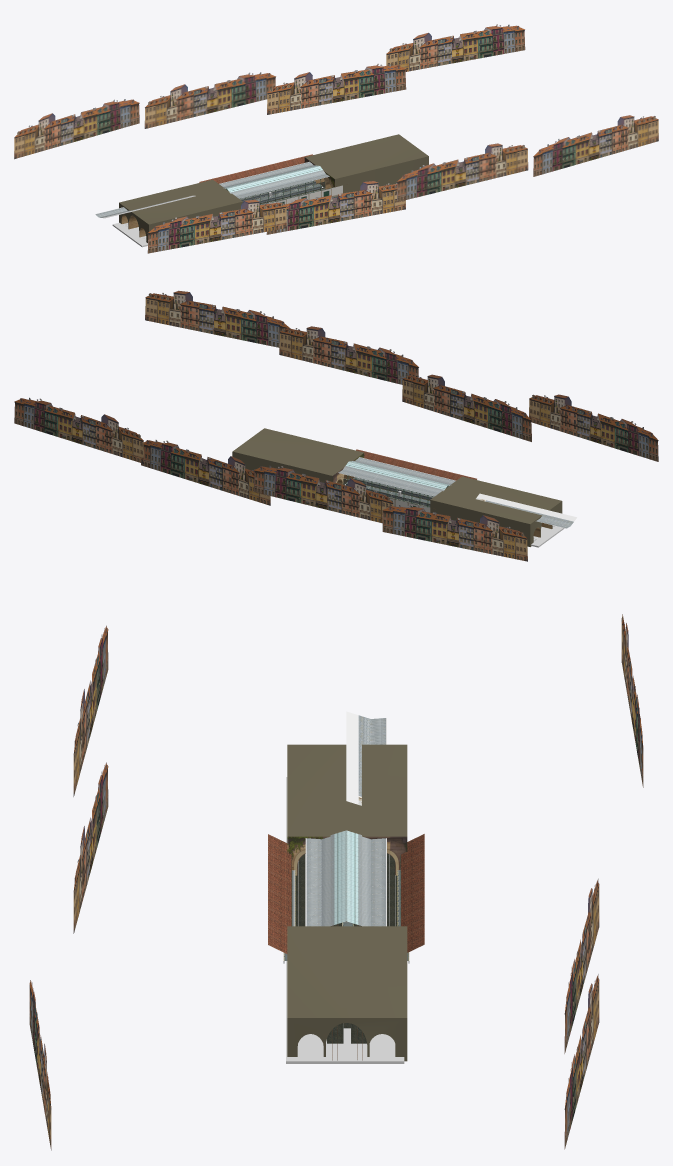
3 renders of one model, top to bottom at view 1: azimuth 30°, elevation 25°; view 2: azimuth 150°, elevation 25°; view 3: azimuth 270°, elevation 25°, orthographic. The views are drawn at different scales.
Visible parts, largest first — view 1: Plane.016, Plane.141, Plane.209, Plane.210, Plane.138, Plane.207, Plane.178, Plane.208, Plane.139, Plane.140, TELHADO.009, TELHADO.008 (+2 smaller); view 2: Plane.208, Plane.139, Plane.178, Plane.138, Plane.207, Plane.016, Plane.140, Plane.210, Plane.141, Plane.209, TELHADO.005, TELHADO.006 (+2 smaller); view 3: Plane.016, Plane.178, Plane.003, TELHADO.005, Plane.209, Plane.210, Plane.141, Plane.140, Plane.139, Plane.208, TELHADO.009, TELHADO.006 (+4 smaller).
Part boxes in pixels (x1,y1,x2,y2): Plane.016: (304,134,428,197); Plane.141: (147,199,286,253); Plane.209: (267,63,406,114); Plane.210: (386,24,525,71); Plane.138: (396,143,528,202); Plane.207: (144,72,275,128); Plane.178: (119,179,242,242); Plane.208: (14,99,139,159); Plane.139: (533,115,658,176); Plane.140: (266,181,405,234); TELHADO.009: (258,173,298,191); TELHADO.008: (289,166,329,183); Plane.208: (382,505,527,561); Plane.139: (145,290,290,347); Plane.178: (430,476,562,546); Plane.138: (279,326,418,384); Plane.207: (253,465,393,523); Plane.016: (232,428,364,484); Plane.140: (402,374,531,441); Plane.210: (14,397,143,463); Plane.141: (529,394,658,461); Plane.209: (141,440,270,505); TELHADO.005: (476,493,576,528); TELHADO.006: (371,469,414,488); Plane.016: (287,926,407,1061); Plane.178: (287,744,407,875); Plane.003: (286,777,404,1063); TELHADO.005: (346,711,386,805); Plane.209: (564,878,599,1053); Plane.210: (564,974,599,1149); Plane.141: (73,625,108,796); Plane.140: (73,762,108,933); Plane.139: (29,980,51,1150); Plane.208: (621,614,643,787); TELHADO.009: (305,861,346,898); TELHADO.006: (346,861,386,898).
Size of the model in its own units: 31531 by 4460 by 16684.
